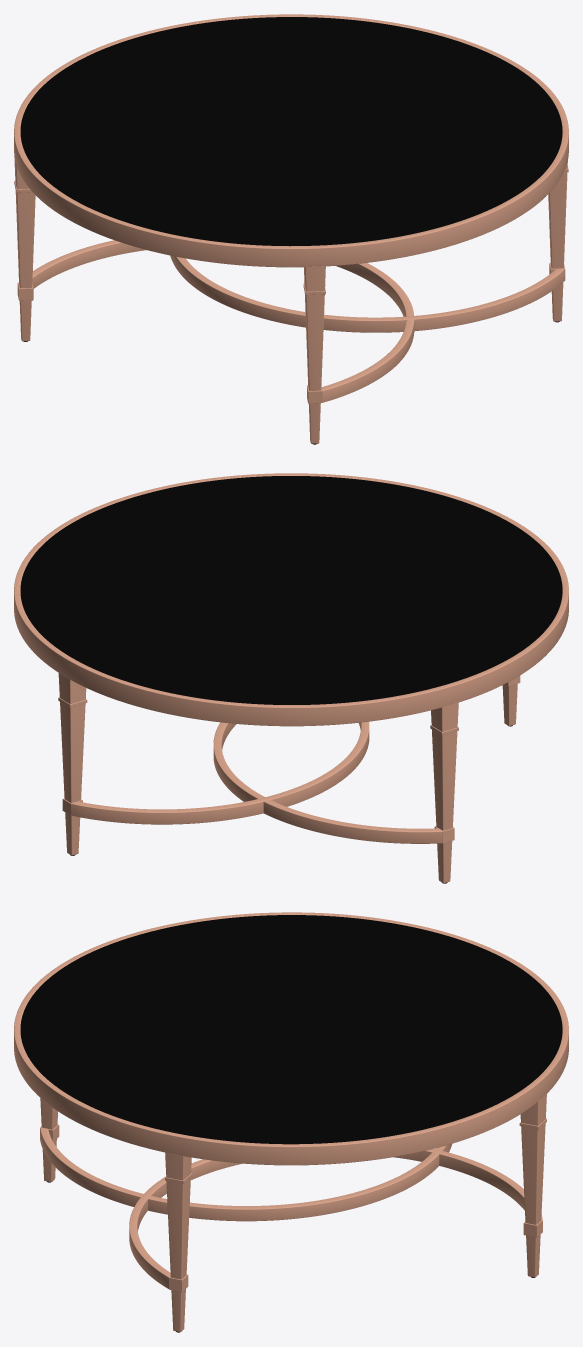
The picture shows the model from 3 angles, top to bottom: view 1: azimuth 30°, elevation 25°; view 2: azimuth 150°, elevation 25°; view 3: azimuth 270°, elevation 25°; orthographic projection.
Visible parts, largest first — view 1: Circle003, Circle002, Arc002, Arc001, Rectangle001, Rectangle013, Rectangle016; view 2: Circle003, Circle002, Arc002, Arc001, Rectangle013, Rectangle010, Rectangle001; view 3: Circle003, Circle002, Arc001, Arc002, Rectangle016, Rectangle010, Rectangle001.
Part boxes in pixels (x1,y1,x2,y2): Circle003: (20,17,562,246); Circle002: (14,14,568,267); Arc002: (170,255,565,332); Arc001: (18,240,414,402); Rectangle001: (304,266,325,443); Rectangle013: (14,156,35,341); Rectangle016: (548,160,567,321); Circle003: (20,476,562,704); Circle002: (14,473,568,726); Arc002: (71,721,369,824); Arc001: (213,722,442,843); Rectangle013: (431,702,458,883); Rectangle010: (58,673,86,855); Rectangle001: (502,683,517,726); Circle003: (20,915,562,1144); Circle002: (14,912,568,1165); Arc001: (40,1127,451,1221); Arc002: (129,1149,542,1288); Rectangle016: (165,1152,191,1331); Rectangle010: (520,1094,546,1277); Rectangle001: (40,1098,57,1182).
Bounding box in the file's own units: 1020 × 405 × 1020.
